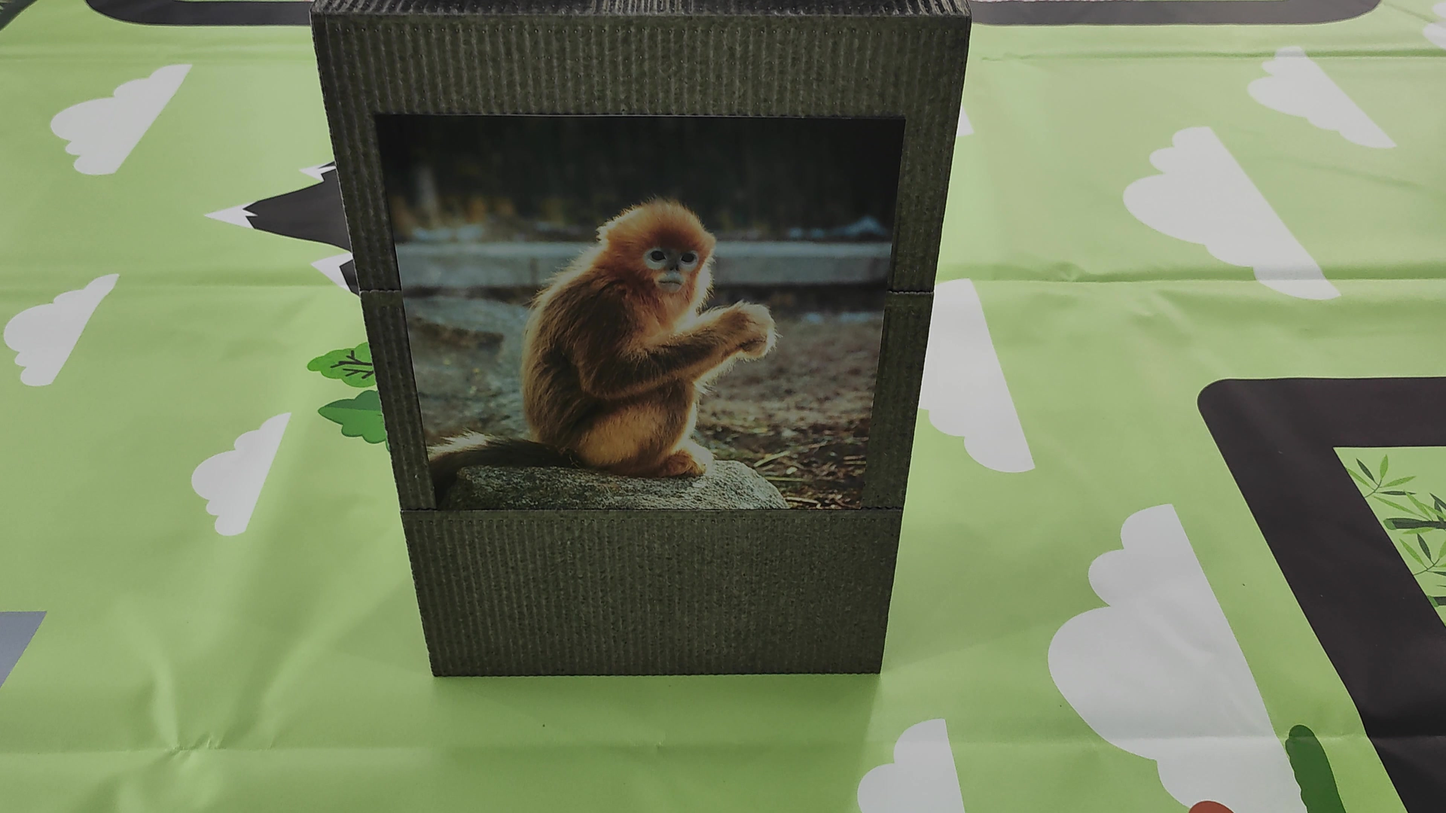monkey: (445, 107, 819, 504)
